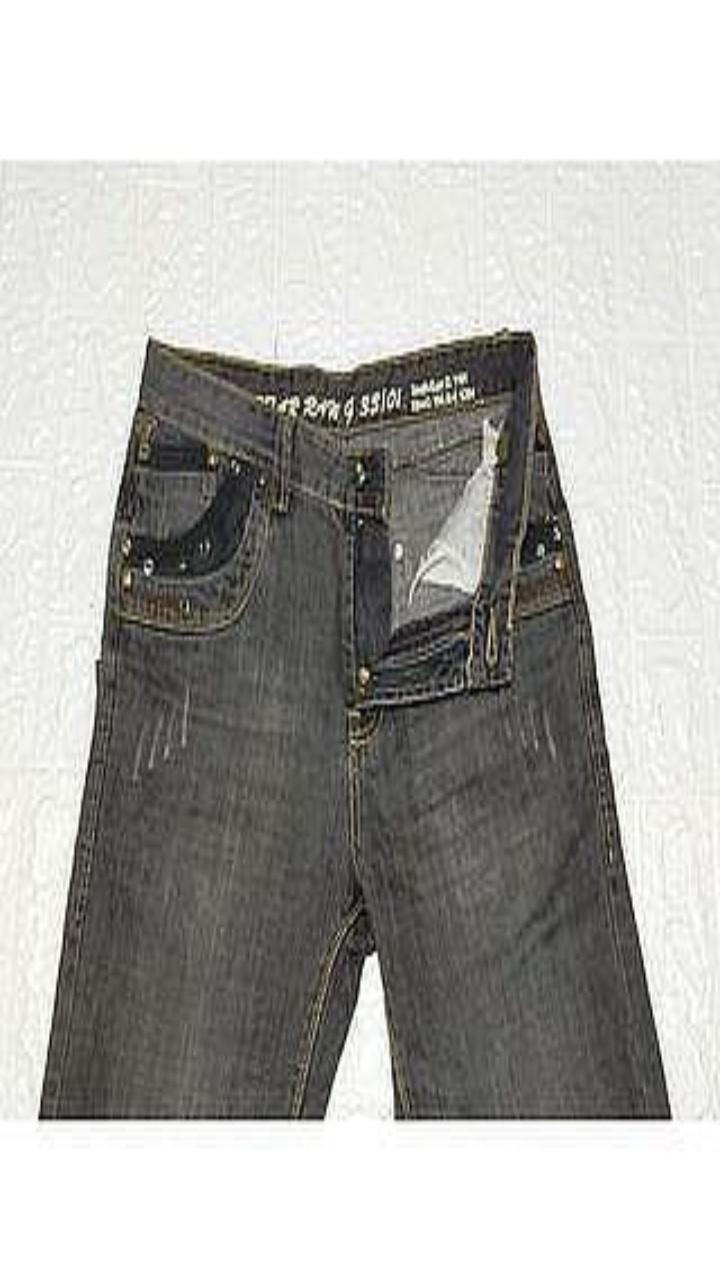Jeans: (41, 331, 669, 1117)
